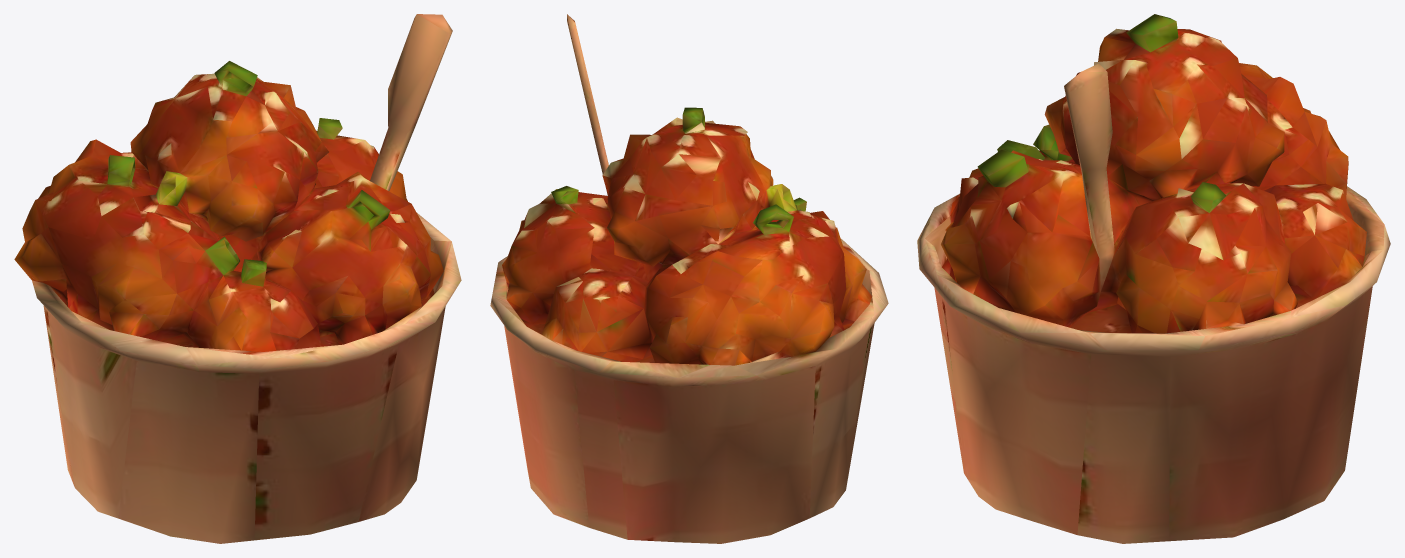
3 views of the same model, side by side, from view 1: azimuth 30°, elevation 25°; view 2: azimuth 150°, elevation 25°; view 3: azimuth 270°, elevation 25° (orthographic). The views are drawn at different scales.
Visible parts, largest first — view 1: dakgangjeong; view 2: dakgangjeong; view 3: dakgangjeong.
Part boxes in pixels (x1,y1,x2,y2): dakgangjeong: [14, 14, 461, 543]; dakgangjeong: [490, 14, 888, 543]; dakgangjeong: [917, 14, 1390, 543].
Bounding box in the file's own units: 0.1586 × 0.1795 × 0.1602.
Materials: 1 (1 with a texture image).
